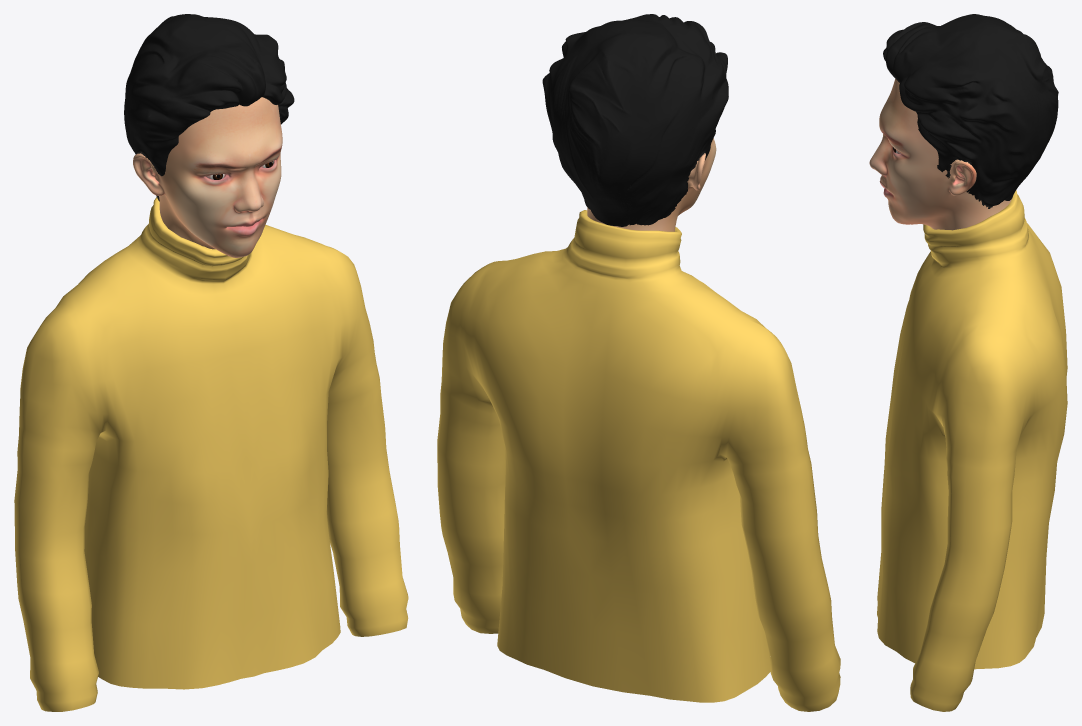
File: rakha.glb
The picture shows the model from 3 angles, left to right: view 1: azimuth 30°, elevation 25°; view 2: azimuth 150°, elevation 25°; view 3: azimuth 270°, elevation 25°; orthographic projection. The views are drawn at different scales.
Visible parts, largest first — view 1: innershirt, head; view 2: innershirt, head; view 3: innershirt, head.
Boxes of the visible parts, <box> form: innershirt: <box>14,197,408,711</box>; head: <box>124,14,294,257</box>; innershirt: <box>437,210,840,711</box>; head: <box>542,14,728,231</box>; innershirt: <box>877,190,1067,711</box>; head: <box>869,14,1058,230</box>.
Size of the model in its own units: 2.08 by 3.4 by 1.
Materials: 4 (2 with a texture image).
